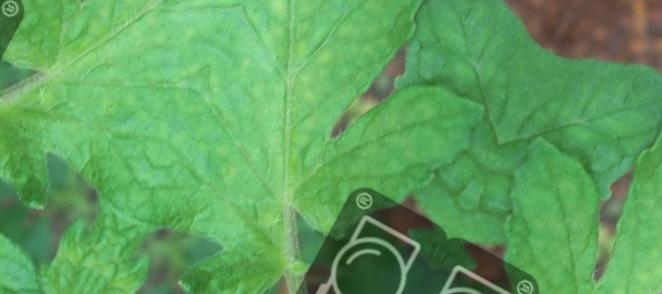Tomato mold leaf: (115, 0, 585, 294)
